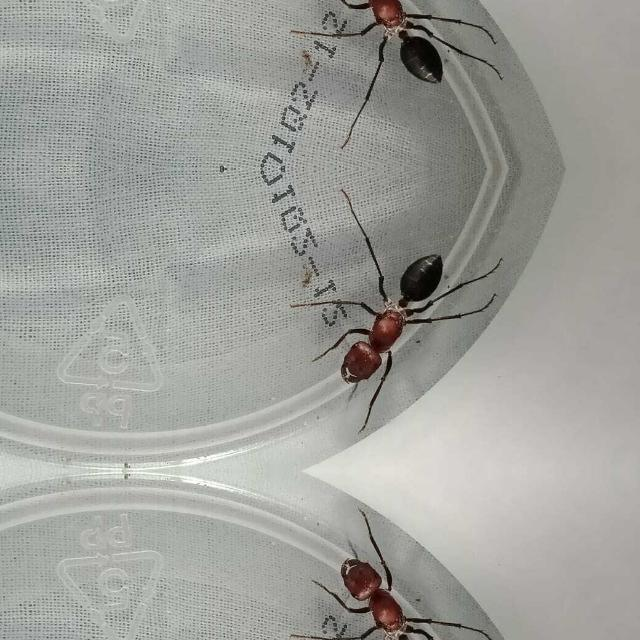Cataglyphis: (288, 238, 512, 408), (288, 532, 512, 640), (288, 0, 512, 98)
